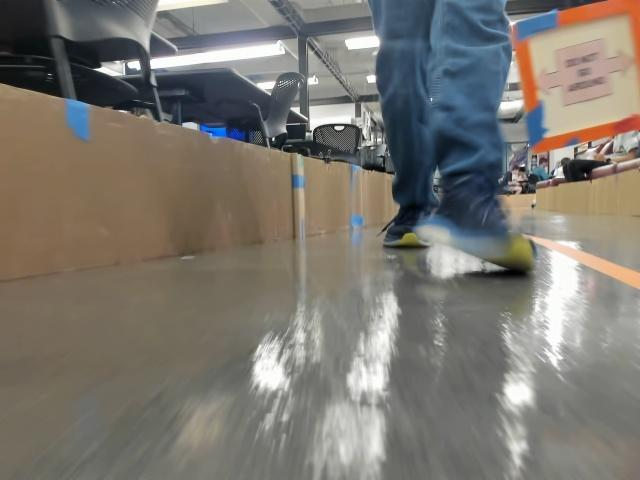Do Not Go Around: (529, 55, 627, 111)
